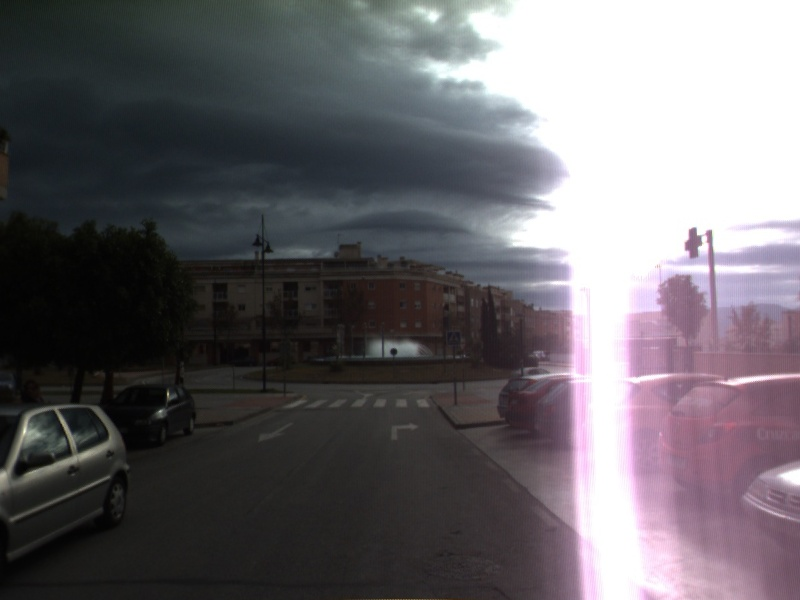RIGHT: (389, 420, 421, 442)
